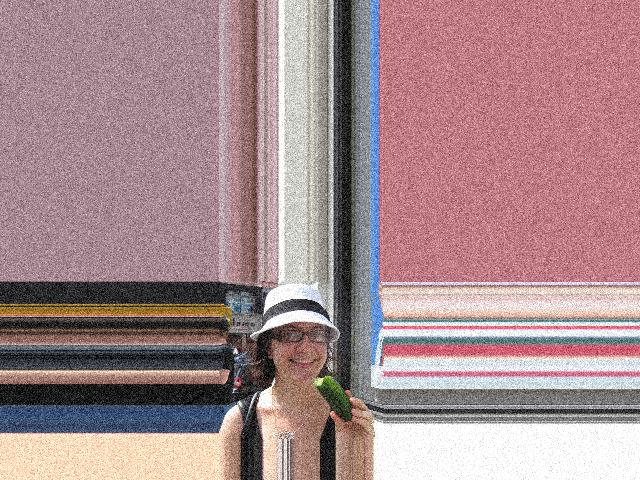cucumber: (313, 376, 354, 421)
